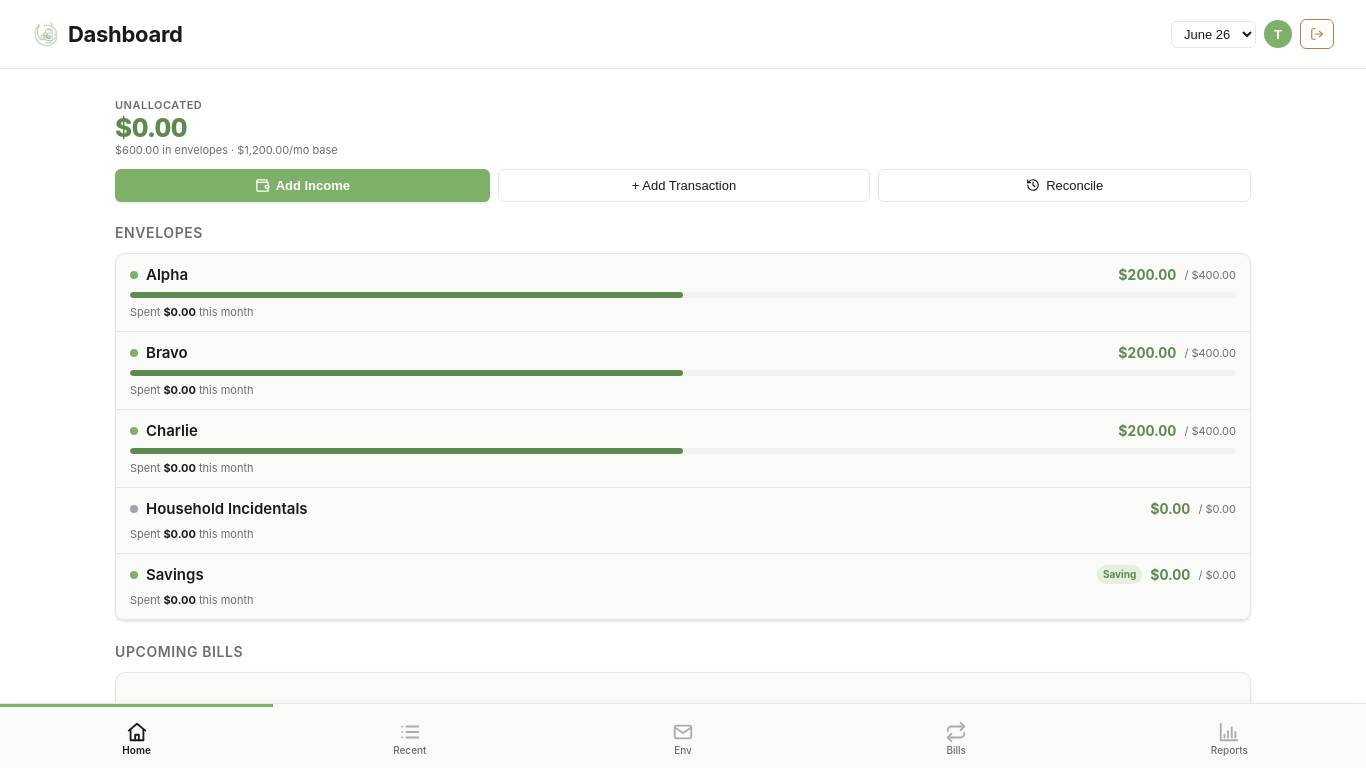
Test: Swipe between tabs › a long press on an envelope card still opens quick actions
This screenshot has width=1366, height=768.
Step 1. Click the button with test id "nav-categories" → (683, 738), box [672,720,694,756]
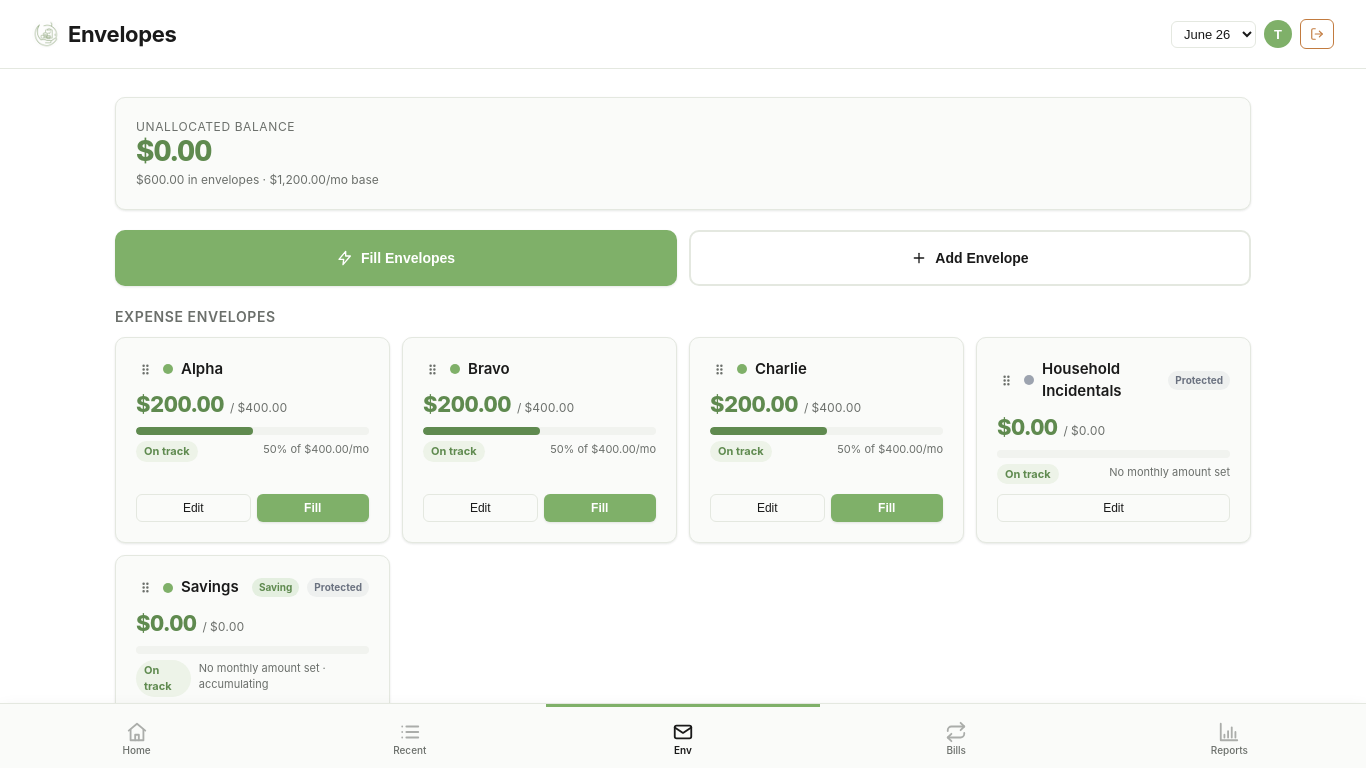
Step 2. Press the mouse on the element showing "Alpha $200.00 / $400.00 On track 50% of $400.00/mo Edit Fill" → (252, 440), box [115,337,390,543]
Wait 600 ms
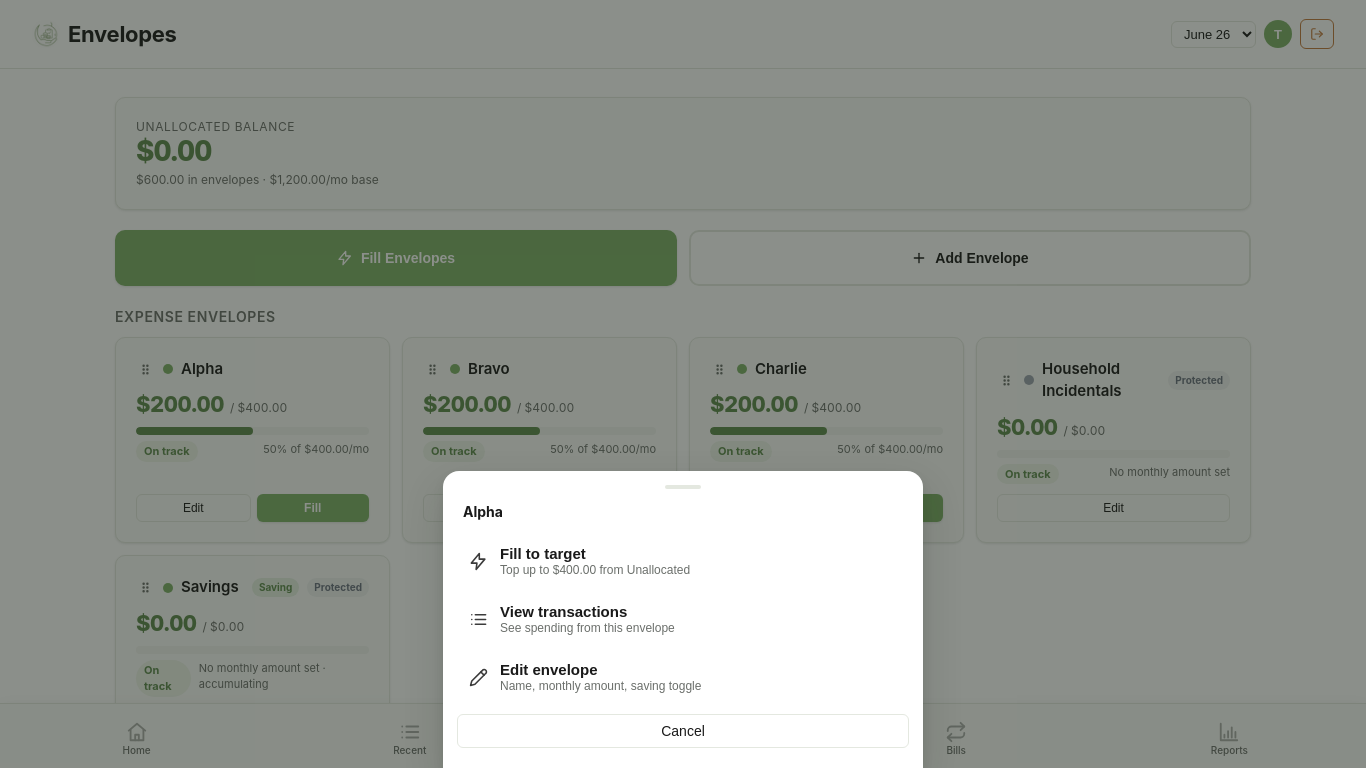
Now the text "Fill to target" is shown, box [500,545,586,562]
